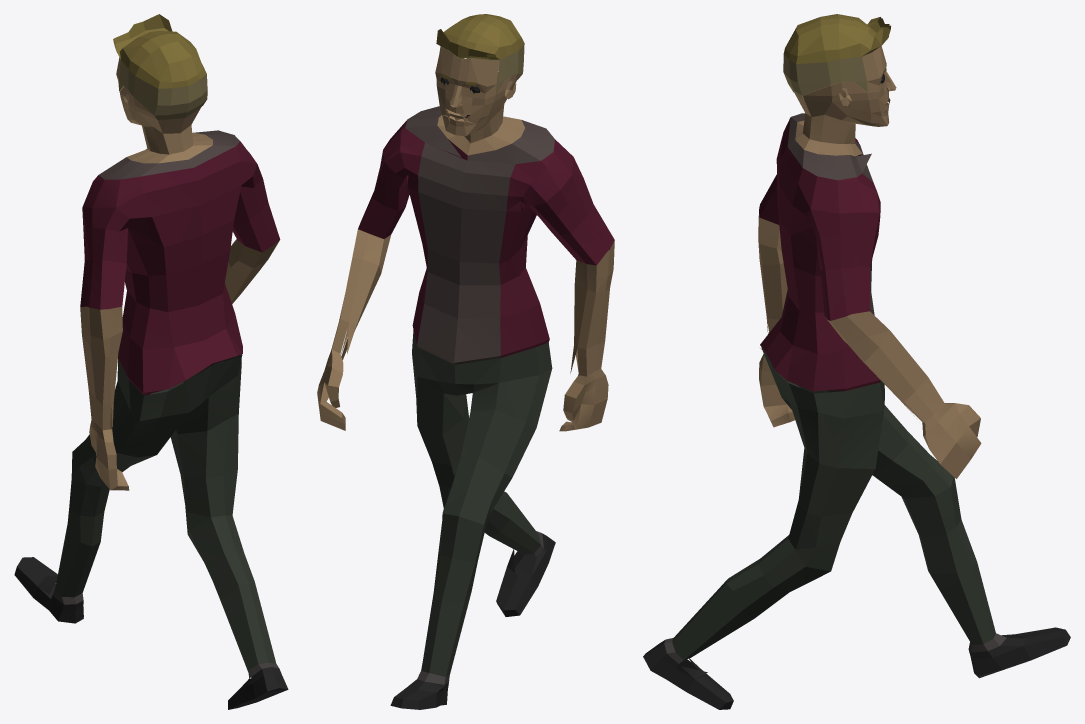
File: person_2_w1.fbx
The picture shows the model from 3 angles, left to right: view 1: azimuth 30°, elevation 25°; view 2: azimuth 150°, elevation 25°; view 3: azimuth 270°, elevation 25°; orthographic projection. The views are drawn at different scales.
Visible parts, largest first — view 1: BaseHuman; view 2: BaseHuman; view 3: BaseHuman.
Boxes of the visible parts, x1,y1,x2,y2 form: BaseHuman: [14, 14, 288, 709]; BaseHuman: [317, 14, 614, 709]; BaseHuman: [643, 14, 1070, 709].
Bounding box in the file's own units: 0.3519 × 1 × 0.571.
